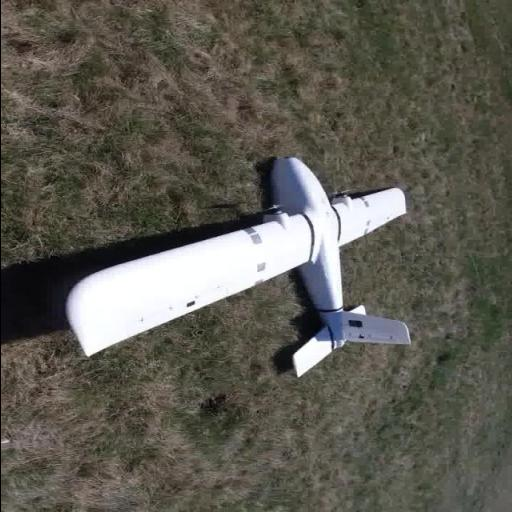uav: (52, 154, 422, 380)
